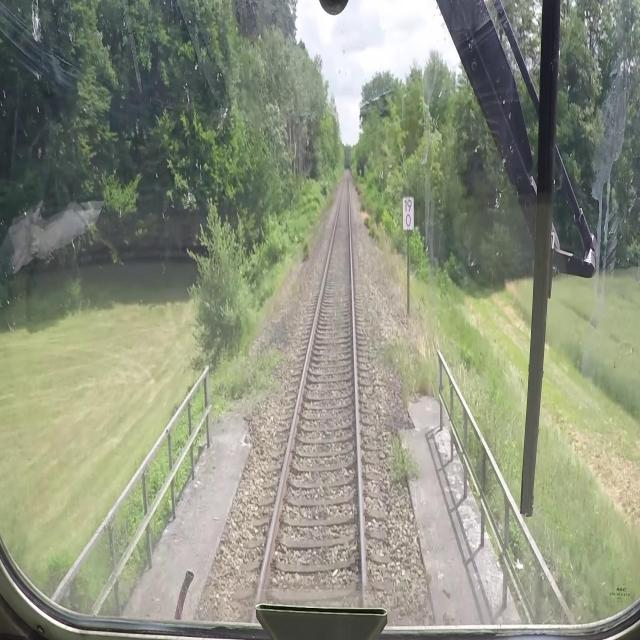rail-track: (260, 171, 361, 596)
